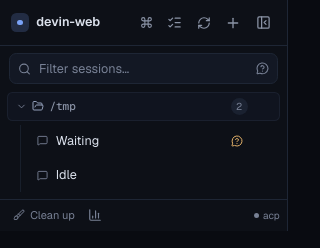
SessionSidebar › needs-input toggle filters to sessions with pending requests
Expected: the link "Waiting" is shown, [56,132,99,149]
Expected: the link "Idle" is shown, [56,166,77,183]
Click the button titled "Only sessions waiting for input".
click(262, 69)  # box [252,59,273,79]
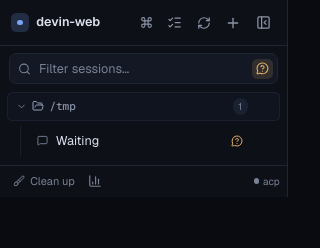
Expected: the link "Waiting" is shown, [56,132,99,149]
Expected: the link "Idle" is gone
